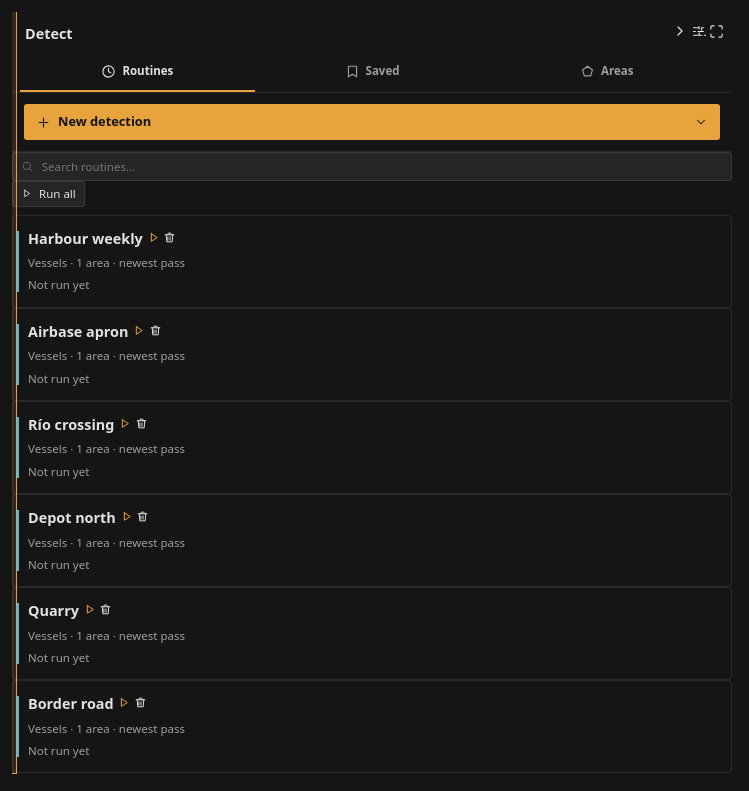
Scenario: searches the routines once there are more than five
Type "rio" into the field named "Search routines…".
click(381, 167); type("rio")  # box [40,157,723,176]
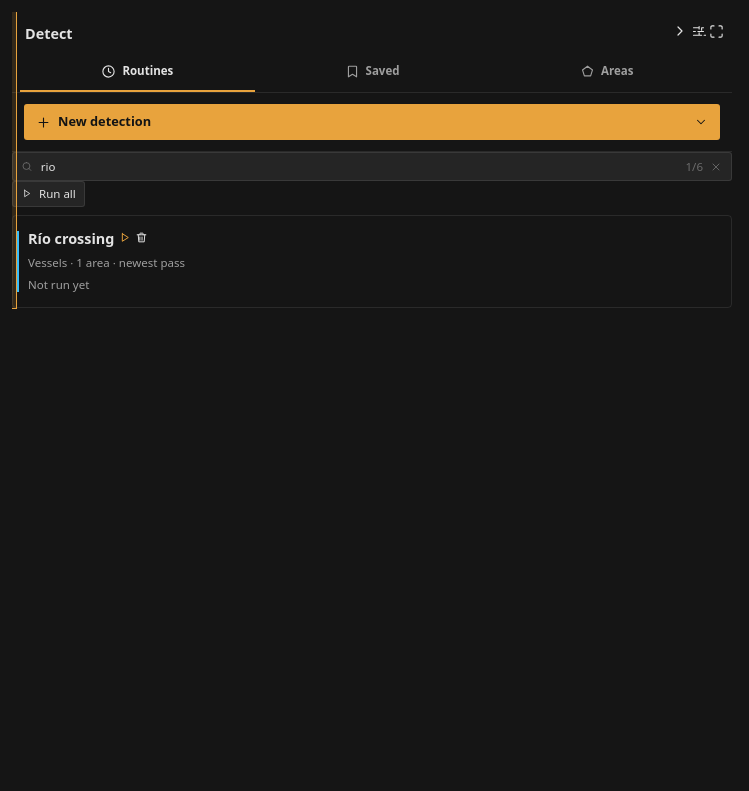
Expected: the text "1/6" is shown, [686,158,703,175]
Replace the text in the field named "Search routines…" with "nowhere" at [359, 167], box [39,157,680,176]
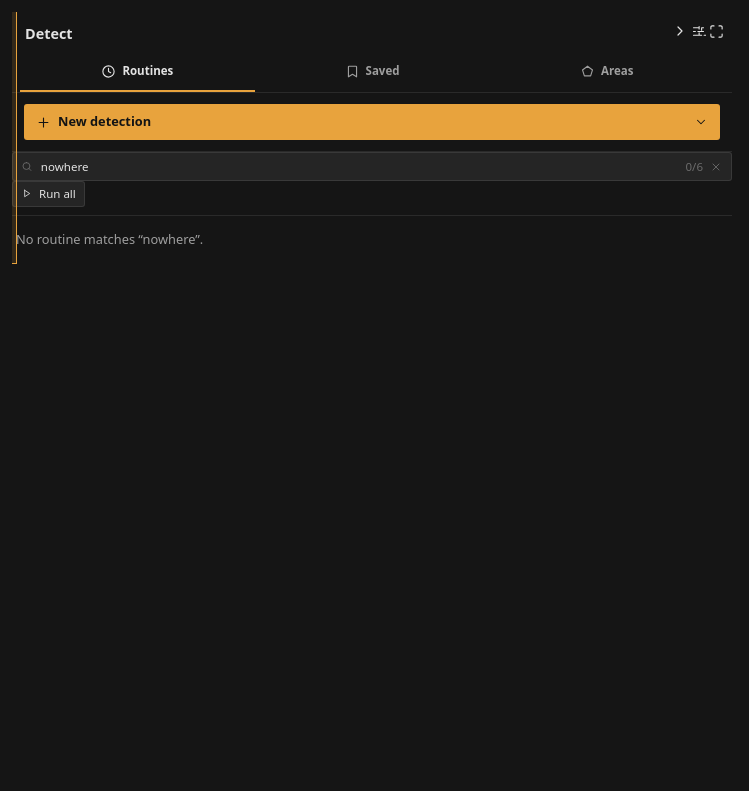
Expected: the text "No routine matches “nowhere”." is shown, [12,214,732,263]
